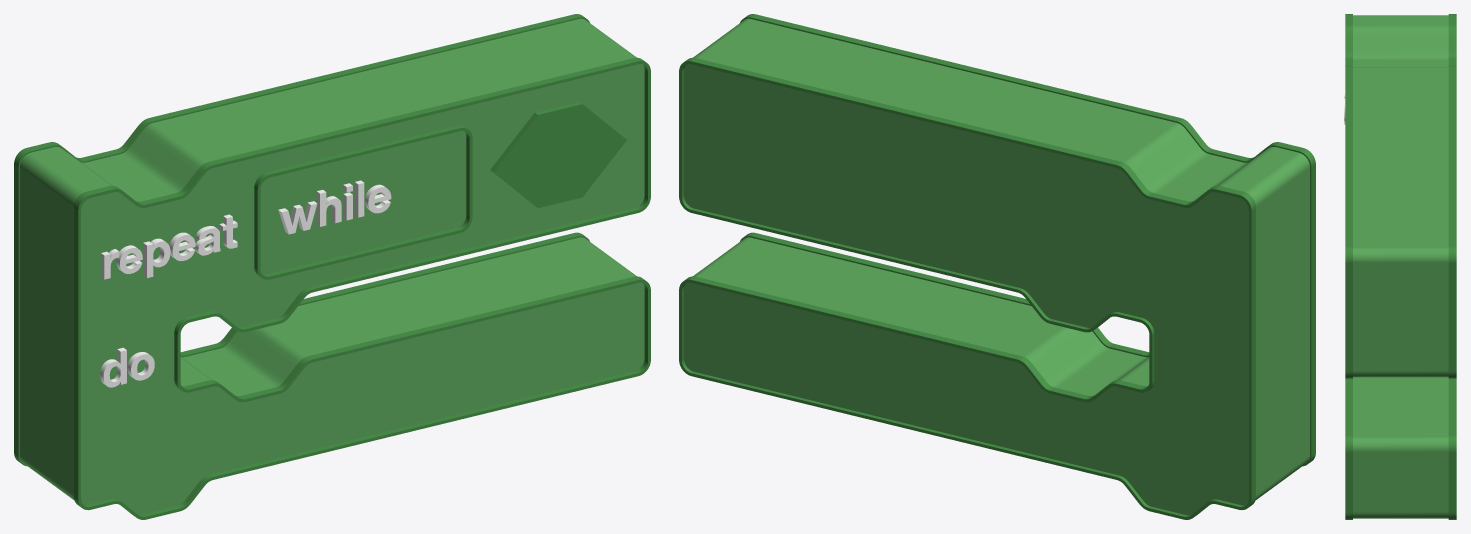
The model's file is controls_whileUntil.gltf.
The picture shows the model from 3 angles, left to right: view 1: azimuth 30°, elevation 25°; view 2: azimuth 150°, elevation 25°; view 3: azimuth 270°, elevation 25°; orthographic projection. The views are drawn at different scales.
Visible parts, largest first — view 1: Extrude.17, Extrude.16, Extrude, Extrude.9, Extrude.8, Extrude.7, Extrude.12, Extrude.2; view 2: Extrude.17, Extrude.9, Extrude.16; view 3: Extrude.17, Extrude.9, Extrude.16.
Part boxes in pixels (x1,y1,x2,y2): Extrude.17: [20, 18, 644, 514]; Extrude.16: [74, 57, 650, 519]; Extrude: [490, 101, 626, 208]; Extrude.9: [14, 14, 589, 466]; Extrude.8: [254, 125, 472, 279]; Extrude.7: [278, 201, 317, 234]; Extrude.12: [143, 238, 170, 277]; Extrude.2: [100, 347, 126, 387]; Extrude.17: [684, 18, 1309, 515]; Extrude.9: [679, 57, 1255, 519]; Extrude.16: [740, 14, 1315, 466]; Extrude.17: [1353, 15, 1448, 518]; Extrude.9: [1448, 14, 1456, 519]; Extrude.16: [1345, 14, 1352, 519].
Bounding box in the file's own units: 0.3665 × 0.2069 × 0.0719.
